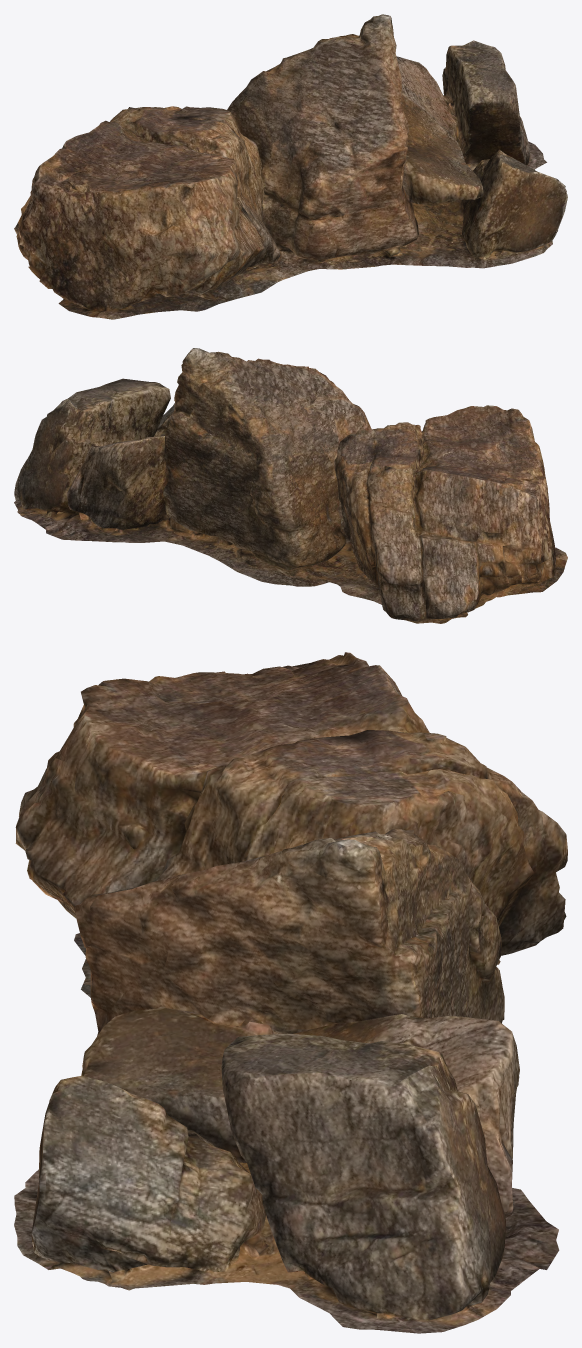
Rendered from namaqualand_boulder_02.glb.
3 renders of one model, top to bottom at view 1: azimuth 30°, elevation 25°; view 2: azimuth 150°, elevation 25°; view 3: azimuth 270°, elevation 25°, orthographic. The views are drawn at different scales.
Visible parts, largest first — view 1: boulder_02; view 2: boulder_02; view 3: boulder_02.
Boxes of the visible parts, bbox=[...] form: boulder_02: bbox=[14, 14, 567, 319]; boulder_02: bbox=[14, 348, 567, 623]; boulder_02: bbox=[14, 652, 567, 1333].
Bounding box in the file's own units: 2.53 × 0.8804 × 1.23.
Materials: 1 (1 with a texture image).
